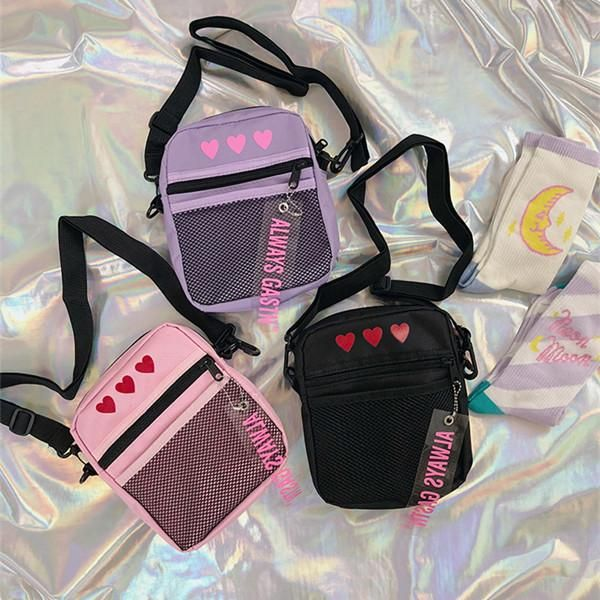nylon: (70, 106, 478, 552)
